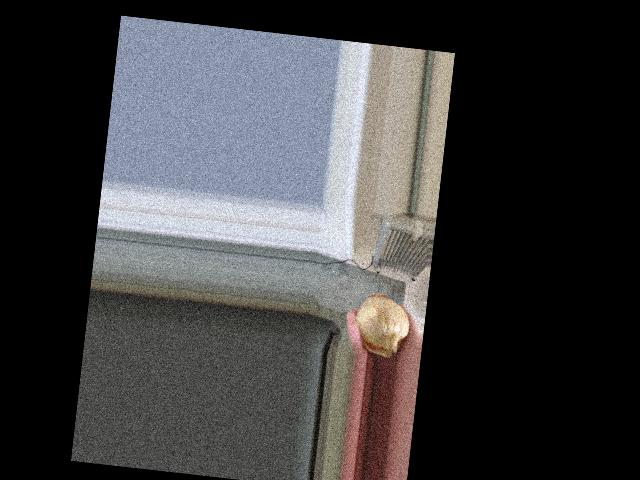onion: (353, 290, 416, 356)
